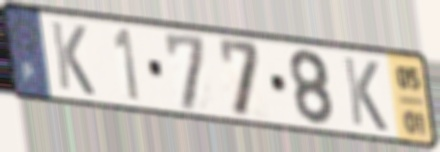1: (112, 27, 142, 105)
7: (218, 35, 265, 121), (161, 29, 208, 114)
8: (287, 47, 336, 128)
K: (48, 18, 98, 99), (340, 54, 390, 135)
